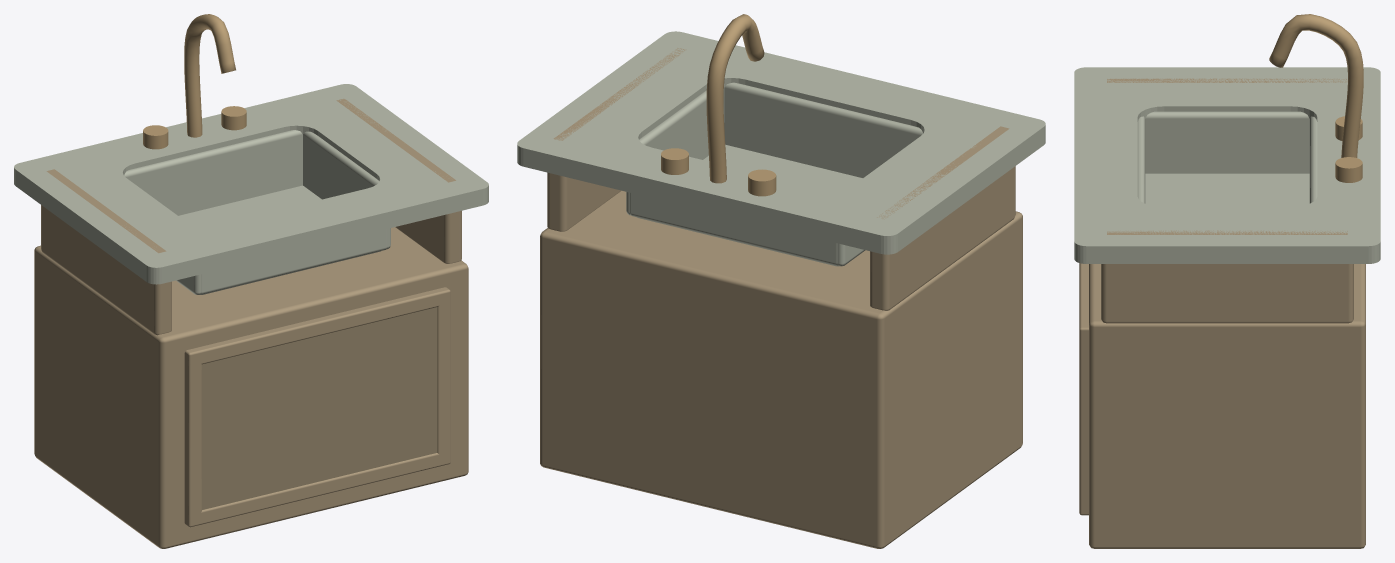
File: sink.glb
3 renders of one model, left to right at view 1: azimuth 30°, elevation 25°; view 2: azimuth 150°, elevation 25°; view 3: azimuth 270°, elevation 25°, orthographic. The views are drawn at different scales.
Visible parts, largest first — view 1: sink-cabinet, open-sink-counter, sink-door-inset, basin-end--1, worktop-receiver--0-37, sink-door-rail-1, basin-end-1, sink-door-rail--1, basin-side-1, worktop-receiver-0-37, sink-door-stile--1, gooseneck-faucet (+4 smaller); view 2: sink-cabinet, open-sink-counter, basin-end-1, worktop-receiver--0-37, basin-end--1, worktop-receiver-0-37, gooseneck-faucet, recessed-basin-floor, basin-side-1, tap--0-1, tap-0-1; view 3: sink-cabinet, open-sink-counter, worktop-receiver-0-37, basin-side--1, recessed-basin-floor, gooseneck-faucet, sink-door-stile-1, worktop-receiver--0-37, basin-end--1, basin-end-1, sink-door-rail-1, tap-0-1.
Boxes of the visible parts, box(x1,y1,x2,y2) form: sink-cabinet: box(34, 227, 468, 548); open-sink-counter: box(14, 84, 488, 284); sink-door-inset: box(202, 307, 437, 509); basin-end--1: box(124, 130, 302, 215); worktop-receiver--0-37: box(41, 169, 171, 335); sink-door-rail-1: box(185, 289, 450, 365); basin-end-1: box(200, 229, 387, 294); sink-door-rail--1: box(184, 452, 450, 526); basin-side-1: box(303, 131, 390, 249); worktop-receiver-0-37: box(336, 98, 461, 263); sink-door-stile--1: box(184, 348, 201, 527); gooseneck-faucet: box(184, 14, 235, 137); sink-cabinet: box(540, 190, 1022, 548); open-sink-counter: box(517, 31, 1045, 254); basin-end-1: box(724, 82, 922, 177); worktop-receiver--0-37: box(870, 126, 1015, 310); basin-end--1: box(630, 193, 838, 265); worktop-receiver-0-37: box(547, 48, 686, 231); gooseneck-faucet: box(706, 14, 764, 183); recessed-basin-floor: box(637, 144, 862, 266); basin-side-1: box(626, 89, 724, 215); tap--0-1: box(748, 169, 776, 196); tap-0-1: box(661, 148, 688, 174); sink-cabinet: box(1089, 264, 1365, 548); open-sink-counter: box(1074, 67, 1380, 263); worktop-receiver-0-37: box(1101, 230, 1353, 323); basin-side--1: box(1145, 111, 1309, 173); recessed-basin-floor: box(1145, 173, 1309, 206); gooseneck-faucet: box(1269, 14, 1363, 157); sink-door-stile-1: box(1079, 323, 1088, 515); worktop-receiver--0-37: box(1107, 78, 1347, 82); basin-end--1: box(1309, 116, 1317, 203); basin-end-1: box(1137, 116, 1145, 203); sink-door-rail-1: box(1079, 263, 1088, 341); tap-0-1: box(1335, 157, 1362, 182).
Bounding box in the file's own units: 0.87 × 1.03 × 0.63.
